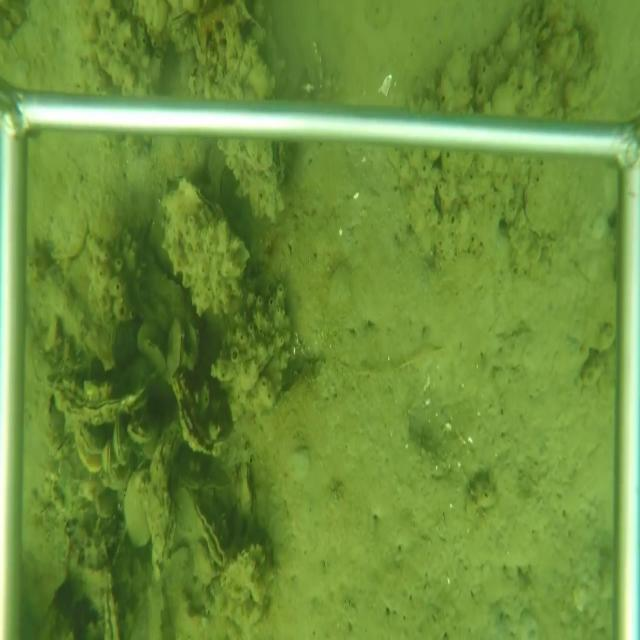Oyster-Closed: (161, 178, 250, 309), (140, 419, 182, 584), (38, 371, 157, 425), (169, 375, 228, 456), (166, 317, 186, 380), (111, 422, 132, 469), (127, 424, 157, 448)
Oyster-Open: (185, 483, 233, 574), (70, 427, 105, 476), (100, 583, 123, 639)
